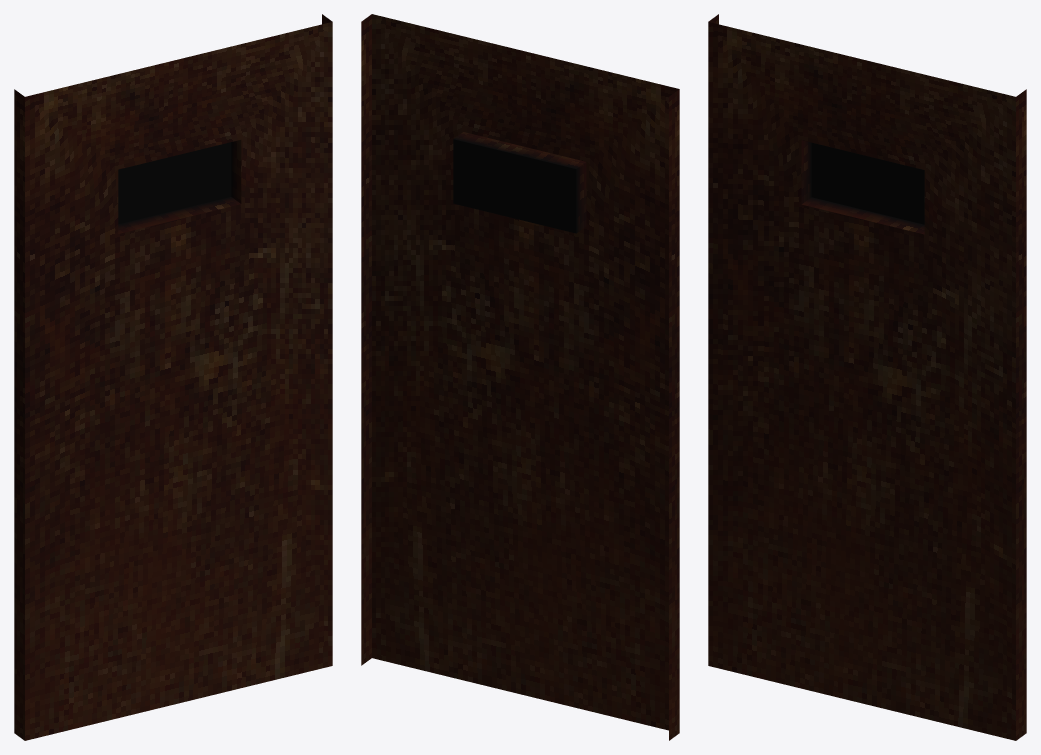
The model's file is the_panopticon_door.glb.
3 renders of one model, left to right at view 1: azimuth 30°, elevation 25°; view 2: azimuth 150°, elevation 25°; view 3: azimuth 330°, elevation 25°, orthographic.
Parts seen in each view (by area): view 1: the panopticon door, the panopticon door window; view 2: the panopticon door, the panopticon door window; view 3: the panopticon door, the panopticon door window.
Boxes of the visible parts, x1,y1,x2,y2 form: the panopticon door: (14, 14, 332, 740); the panopticon door window: (118, 142, 231, 224); the panopticon door: (361, 14, 679, 740); the panopticon door window: (453, 139, 576, 233); the panopticon door: (708, 14, 1026, 740); the panopticon door window: (811, 142, 924, 224).
Bounding box in the file's own units: 1 × 2 × 0.06.
Materials: 1 (1 with a texture image).
